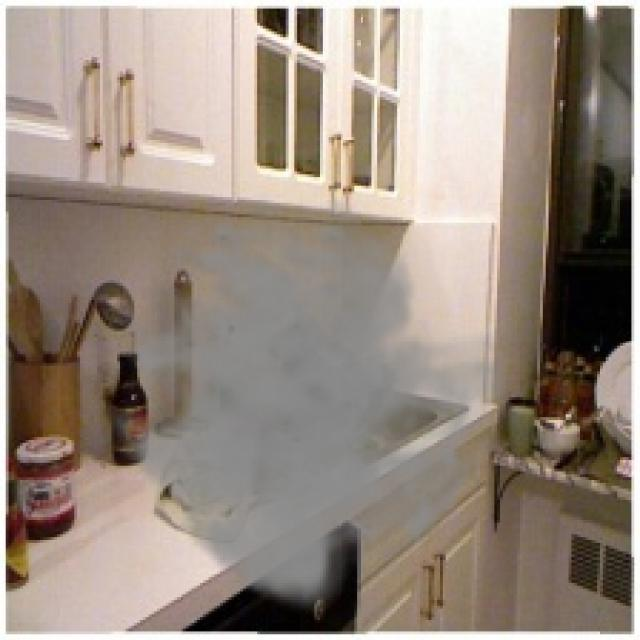Smoke: (92, 195, 514, 614)
